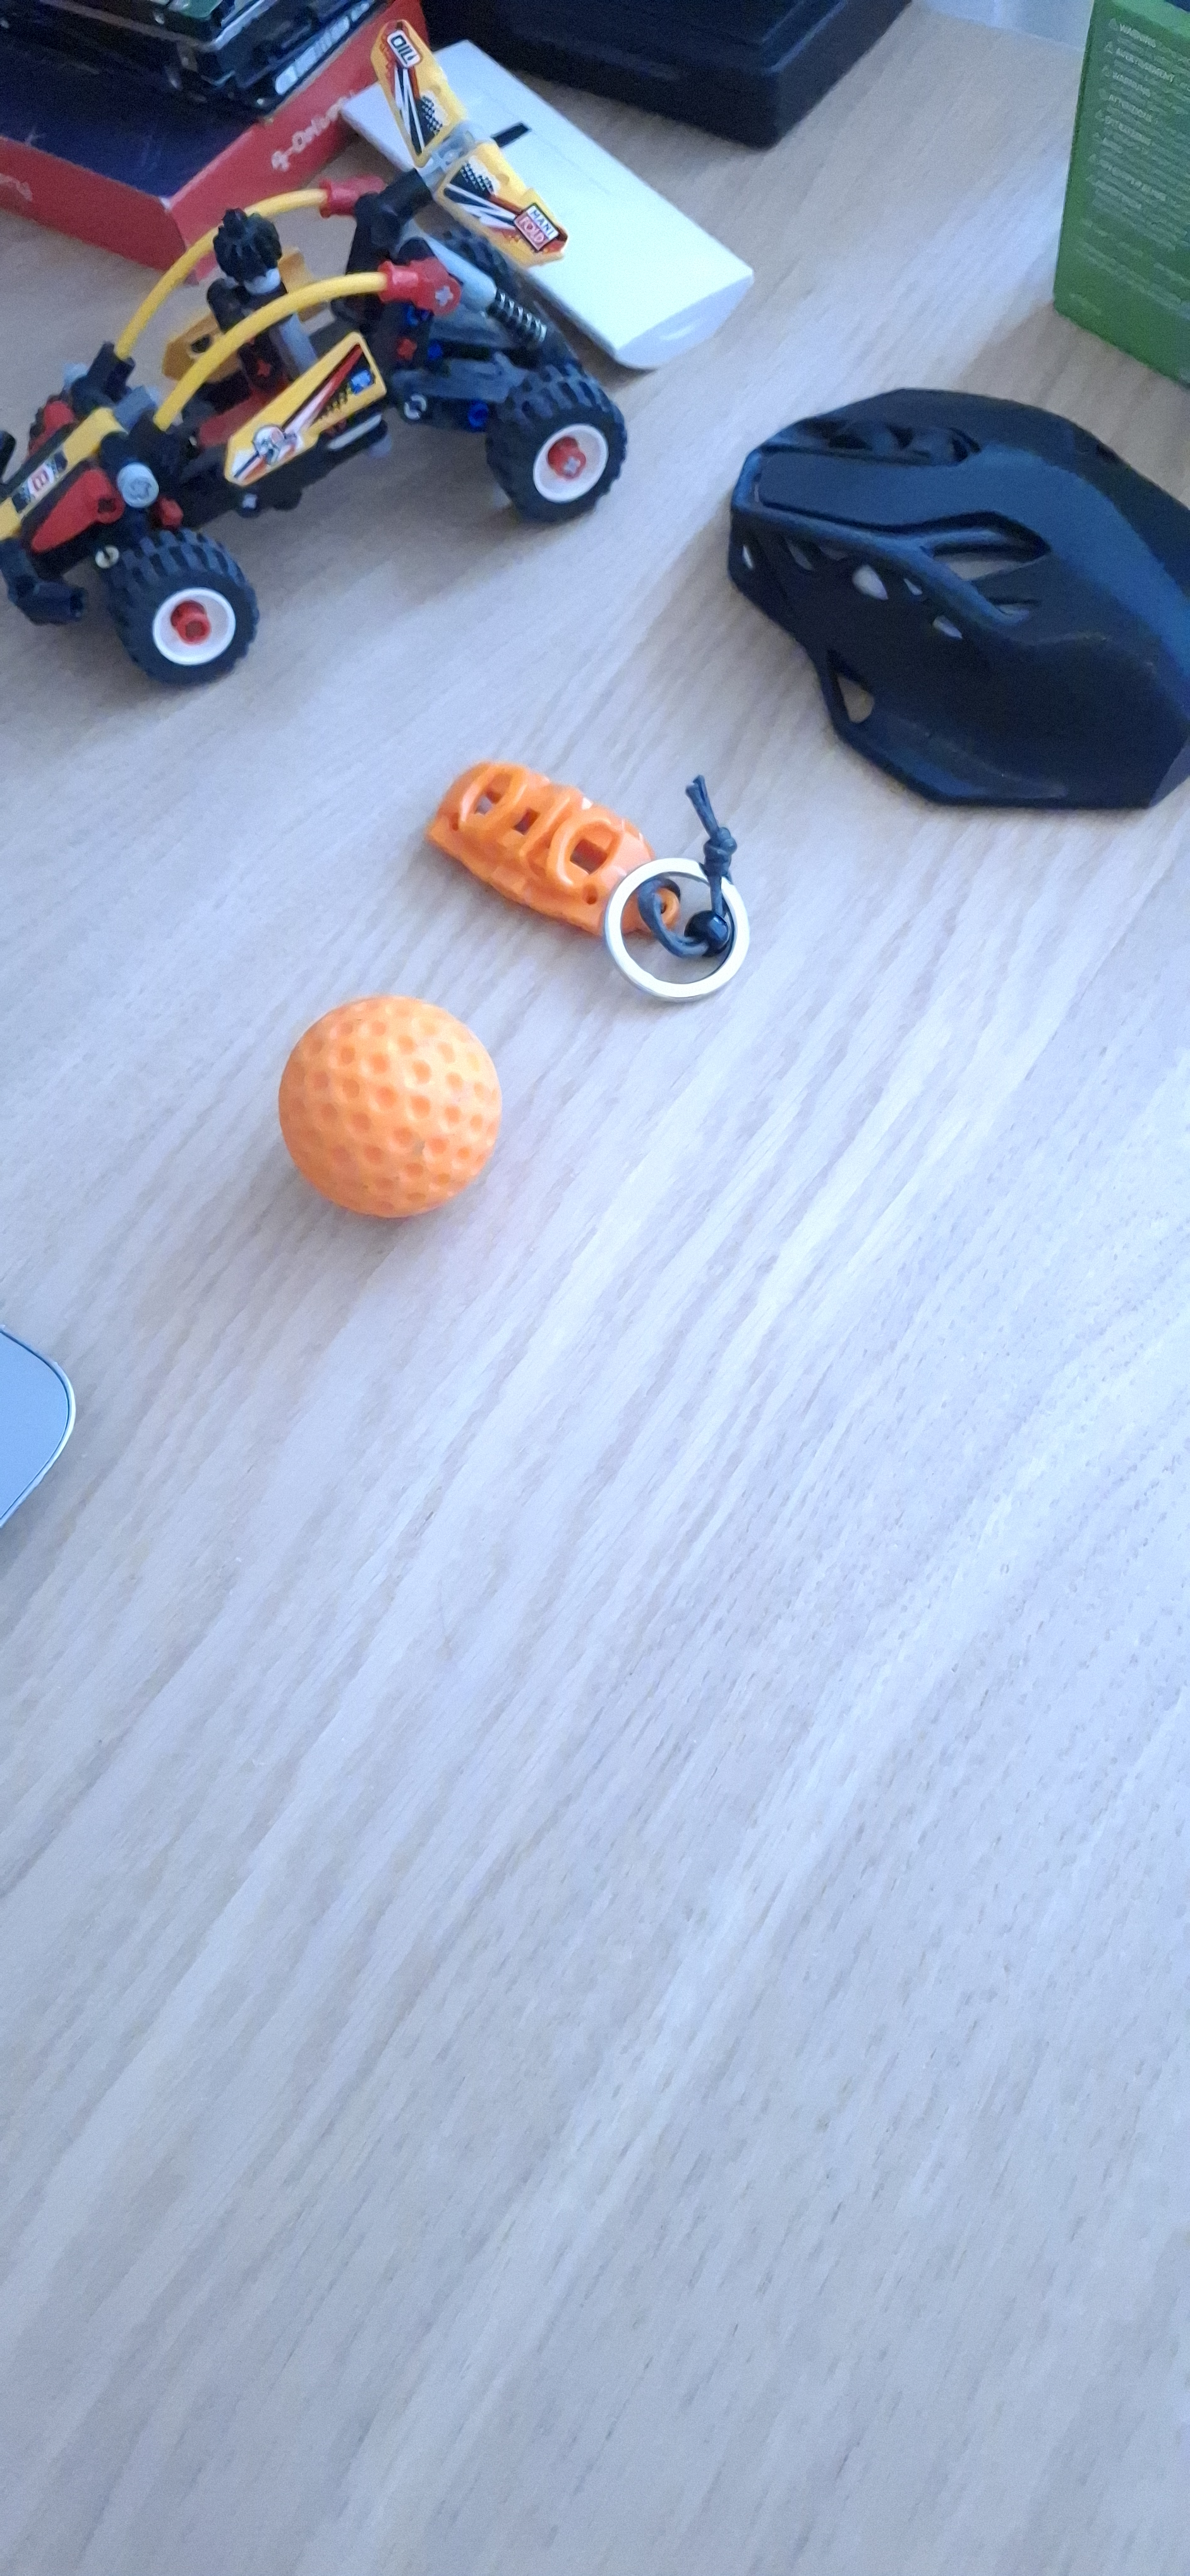ball: (460, 1487, 560, 1976)
